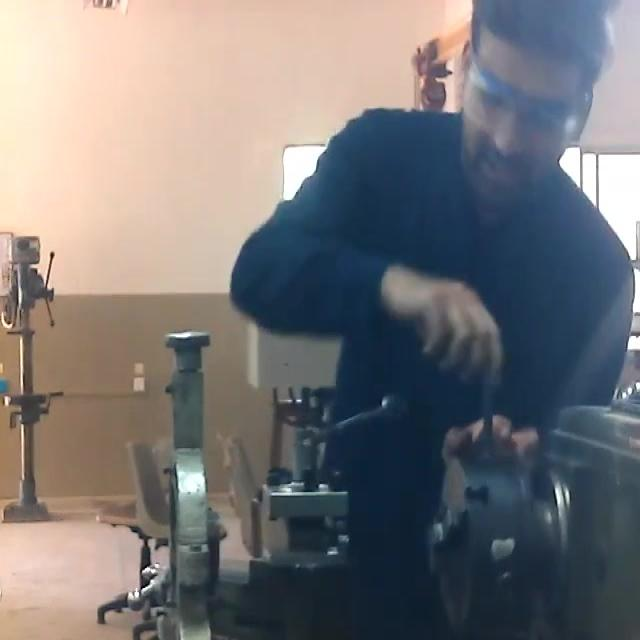googles: (460, 64, 572, 158)
